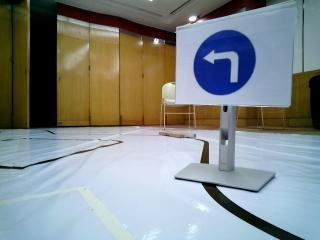left: (178, 23, 287, 107)
